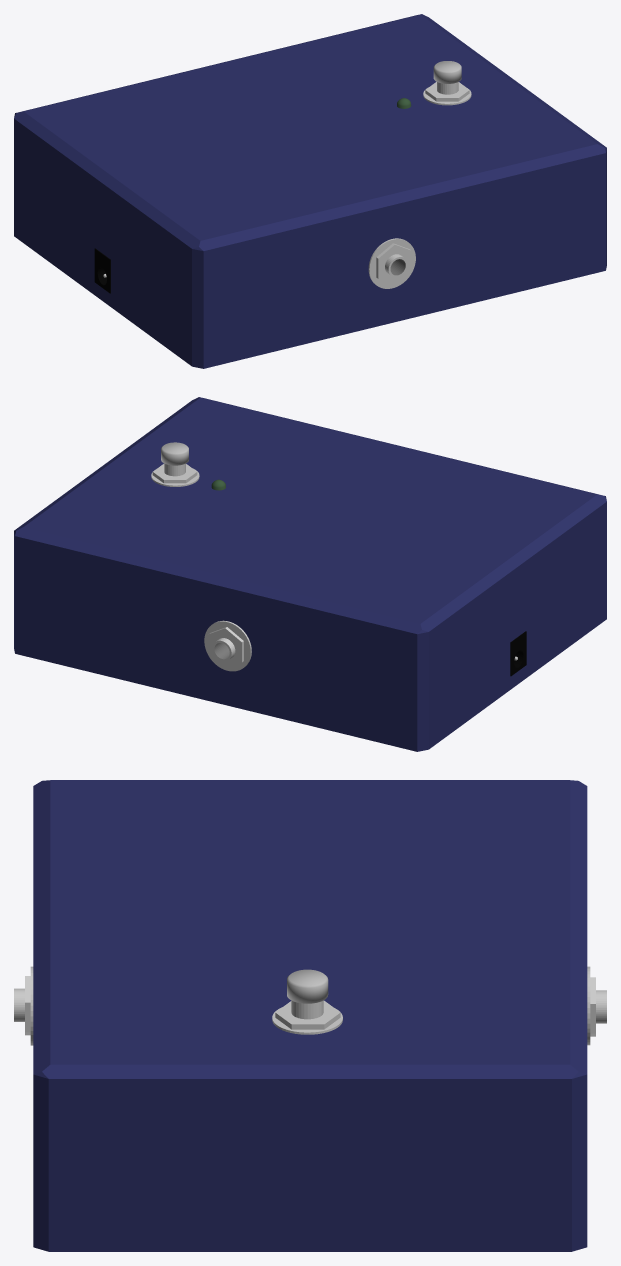
Rendered from pedal3.gltf.
3 views of the same model, one above another, from view 1: azimuth 30°, elevation 25°; view 2: azimuth 150°, elevation 25°; view 3: azimuth 270°, elevation 25° (orthographic). The views are drawn at different scales.
Parts seen in each view (by area): view 1: Box.002, Base.006, Nut.006, Head.002, Plane.002, Nut.007; view 2: Box.002, Base.008, Nut.008, Head.002, Plane.002, Nut.007; view 3: Box.002, Head.002, Nut.007.
Part boxes in pixels (bbox=[...]): Box.002: bbox=[14, 14, 606, 368]; Base.006: bbox=[368, 238, 415, 288]; Nut.006: bbox=[376, 243, 411, 284]; Head.002: bbox=[433, 61, 461, 83]; Plane.002: bbox=[94, 248, 110, 293]; Nut.007: bbox=[425, 81, 469, 101]; Box.002: bbox=[14, 397, 606, 751]; Base.008: bbox=[204, 620, 251, 671]; Nut.008: bbox=[208, 627, 243, 668]; Head.002: bbox=[161, 442, 188, 465]; Plane.002: bbox=[510, 631, 526, 676]; Nut.007: bbox=[152, 464, 197, 483]; Box.002: bbox=[33, 780, 587, 1251]; Head.002: bbox=[287, 969, 328, 1003]; Nut.007: bbox=[275, 1000, 340, 1029].
Bounding box in the file's own units: 9.47 × 3.31 × 7.96.
